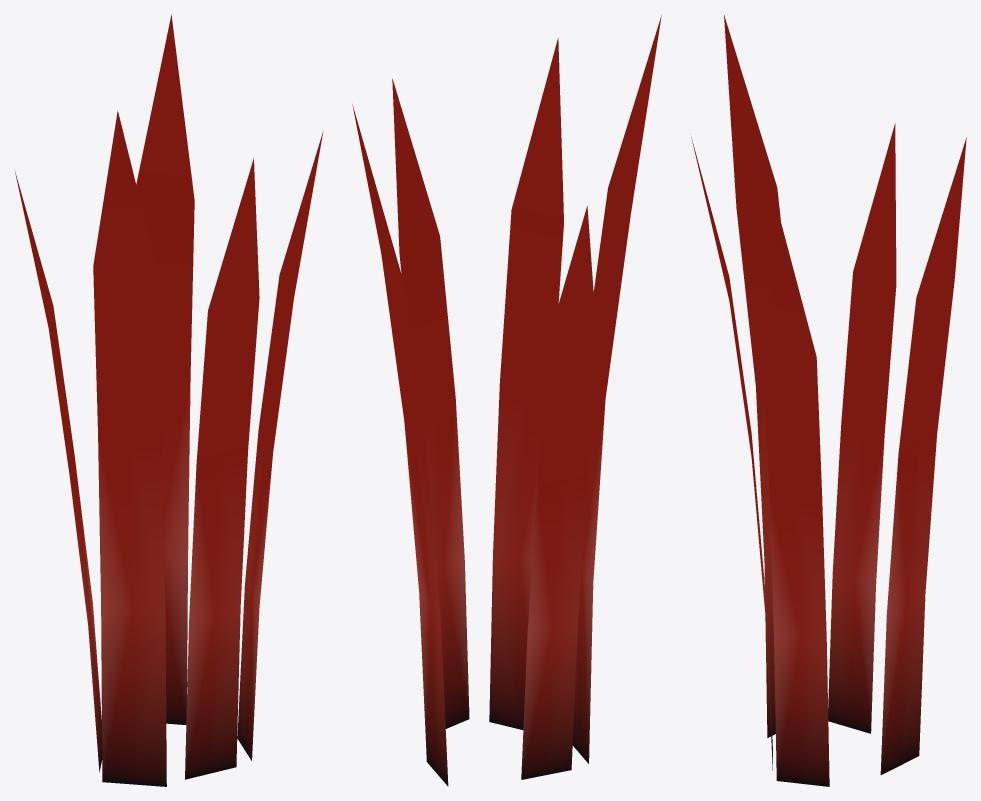
Rendered from Grass_Clump_02_OLD.fbx.
3 views of the same model, side by side, from view 1: azimuth 30°, elevation 25°; view 2: azimuth 150°, elevation 25°; view 3: azimuth 270°, elevation 25° (orthographic). The views are drawn at different scales.
Parts seen in each view (by area): view 1: Grass_Blade; view 2: Grass_Blade; view 3: Grass_Blade.
Part boxes in pixels (x1,y1,x2,y2): Grass_Blade: (14, 14, 323, 786); Grass_Blade: (352, 15, 661, 786); Grass_Blade: (691, 15, 966, 786).
Size of the model in its own units: 46.74 by 46.02 by 127.
